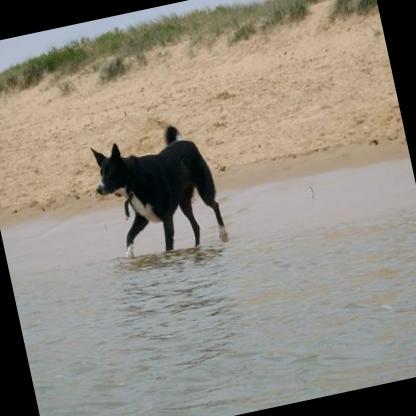kelpie: (82, 118, 230, 272)
